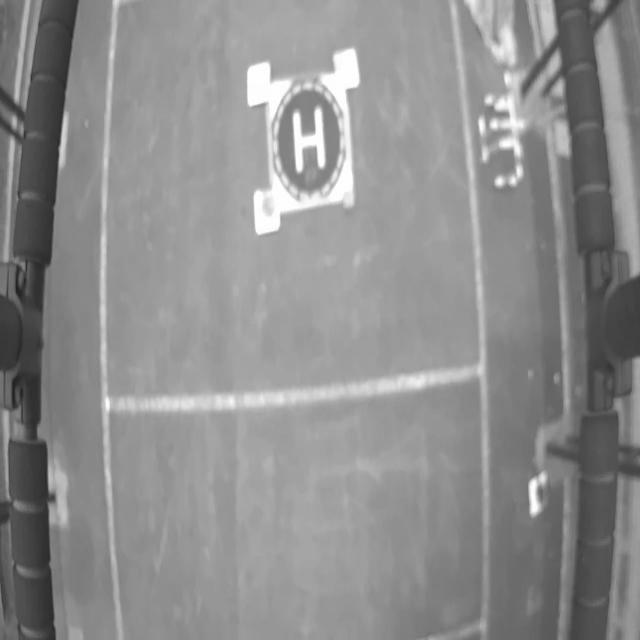Helipad: (292, 106, 326, 177)
